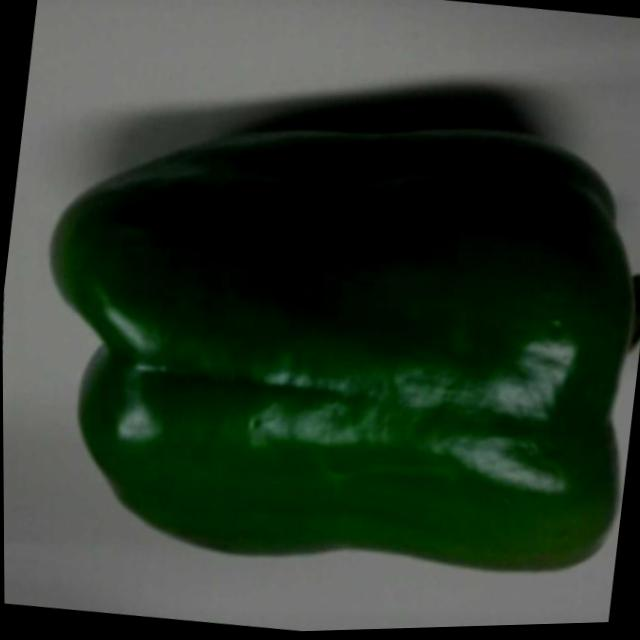Capsicum: (8, 70, 640, 610)
